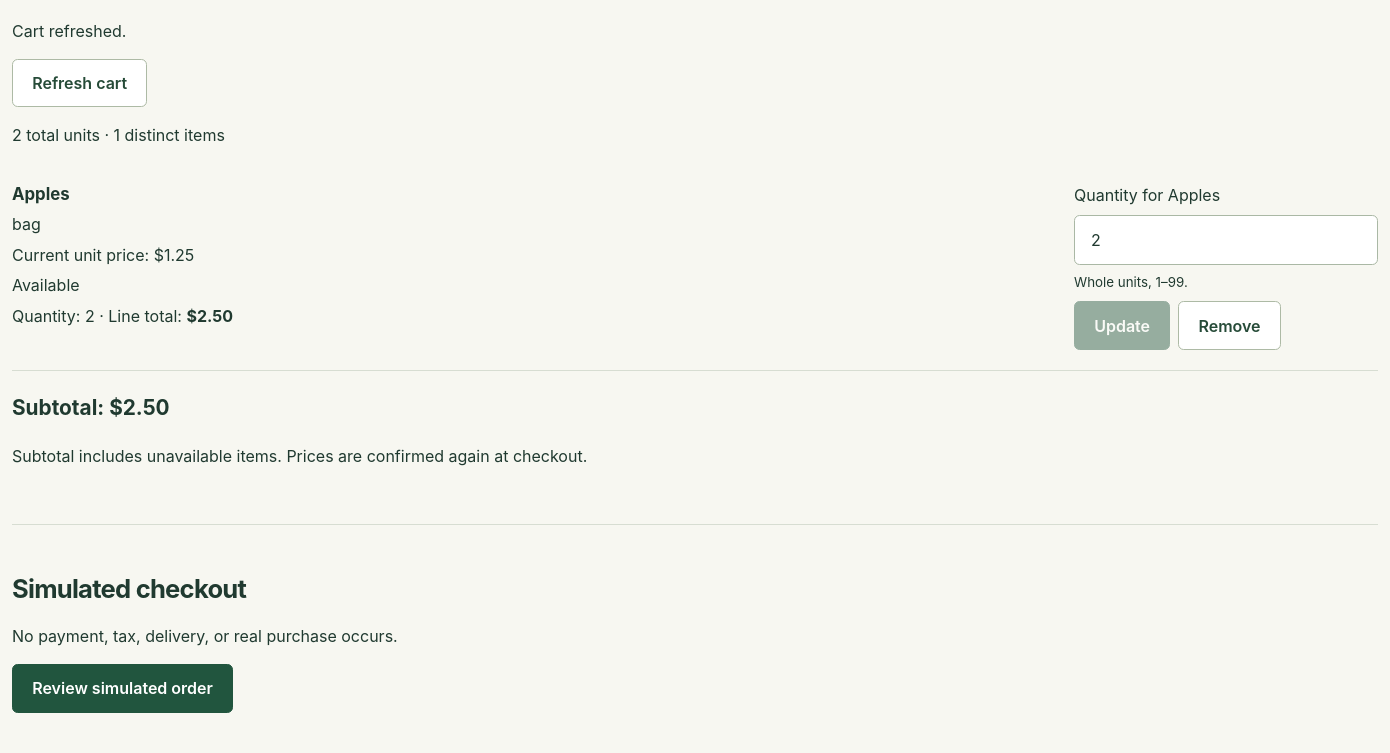
Test: simulated checkout › requires another explicit review after changed prices
The width and height of the screenshot is (1390, 753).
(page scrolled)
Click the button "Review simulated order".
click(123, 688)  # box [12,664,233,712]
(page scrolled)
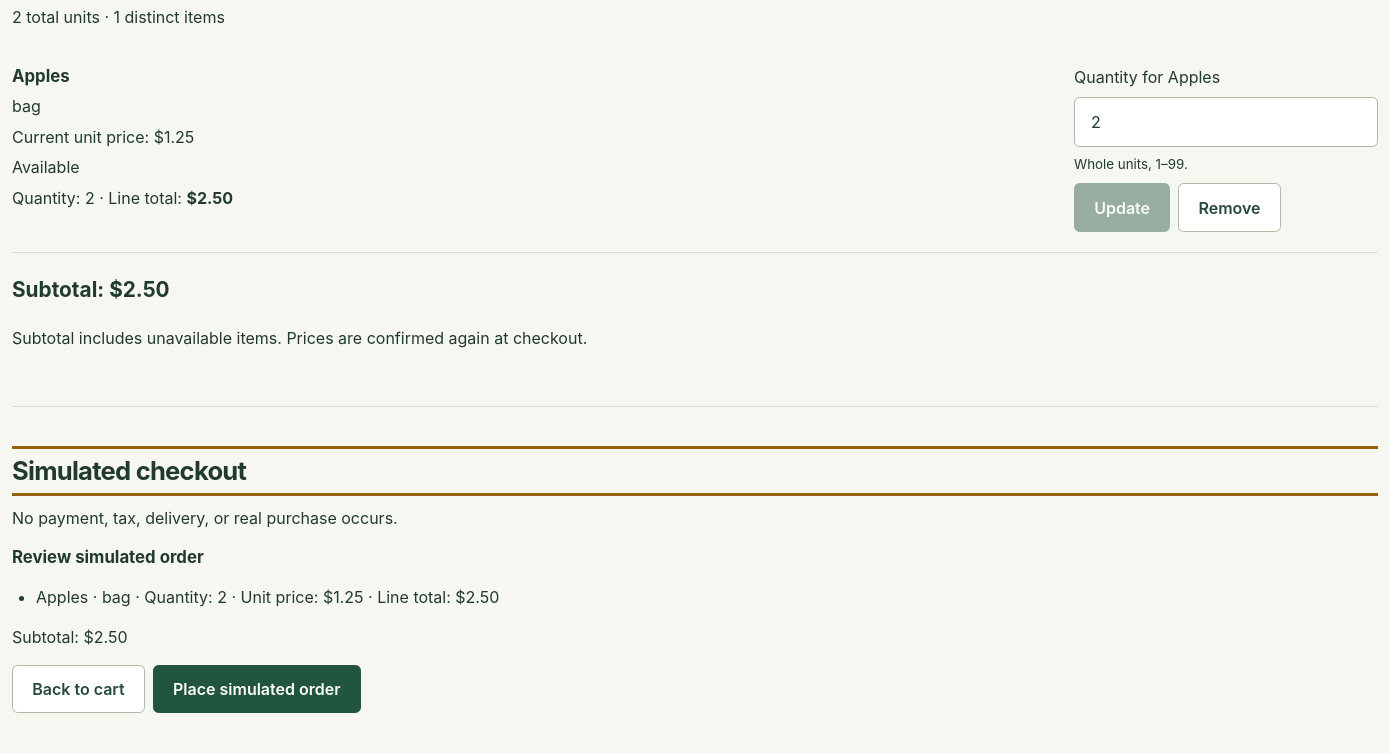
Expected: the button "Place simulated order" is shown
Click the button "Place simulated order".
click(257, 689)  # box [153,665,361,713]
(page scrolled)
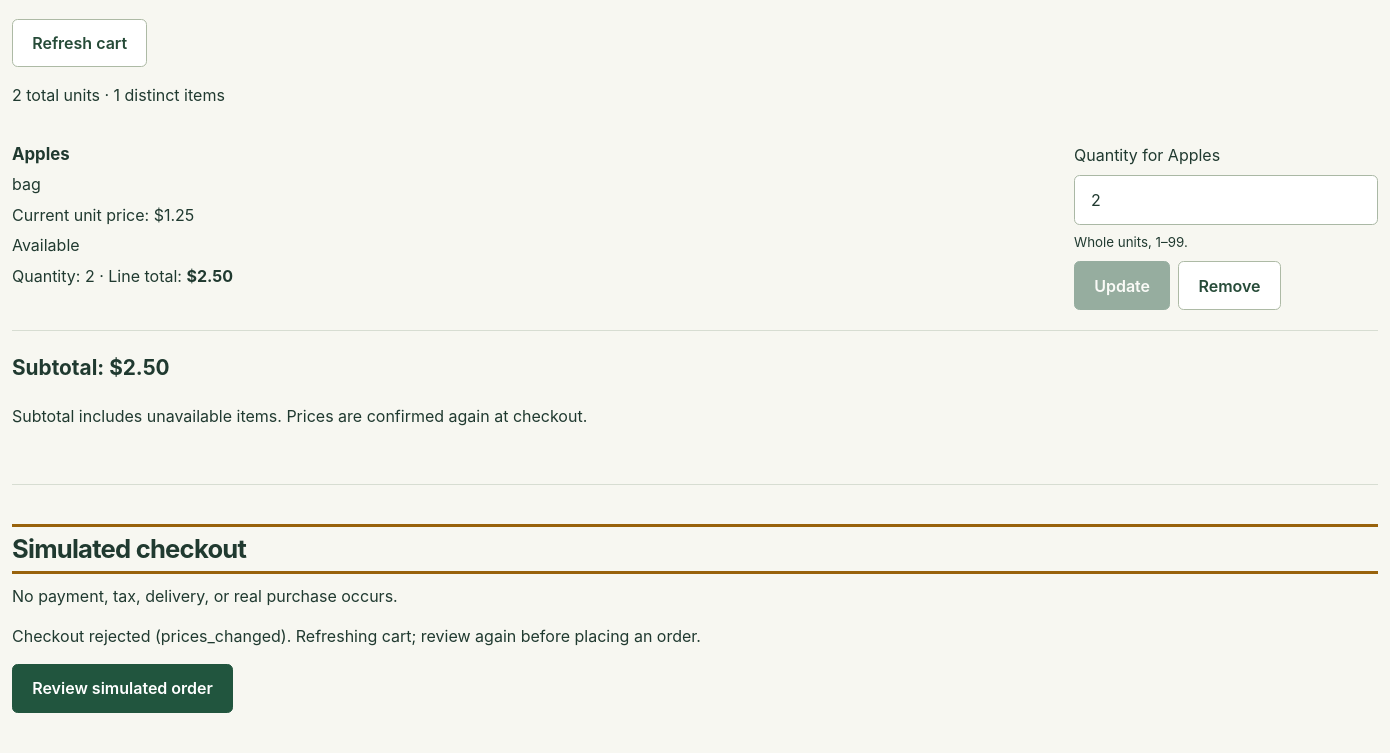
Expected: the text "Checkout rejected (prices_changed)" is shown, [12,626,701,646]
Expected: the button "Place simulated order" is gone
Click the button "Review simulated order".
click(123, 688)  # box [12,664,233,712]
(page scrolled)
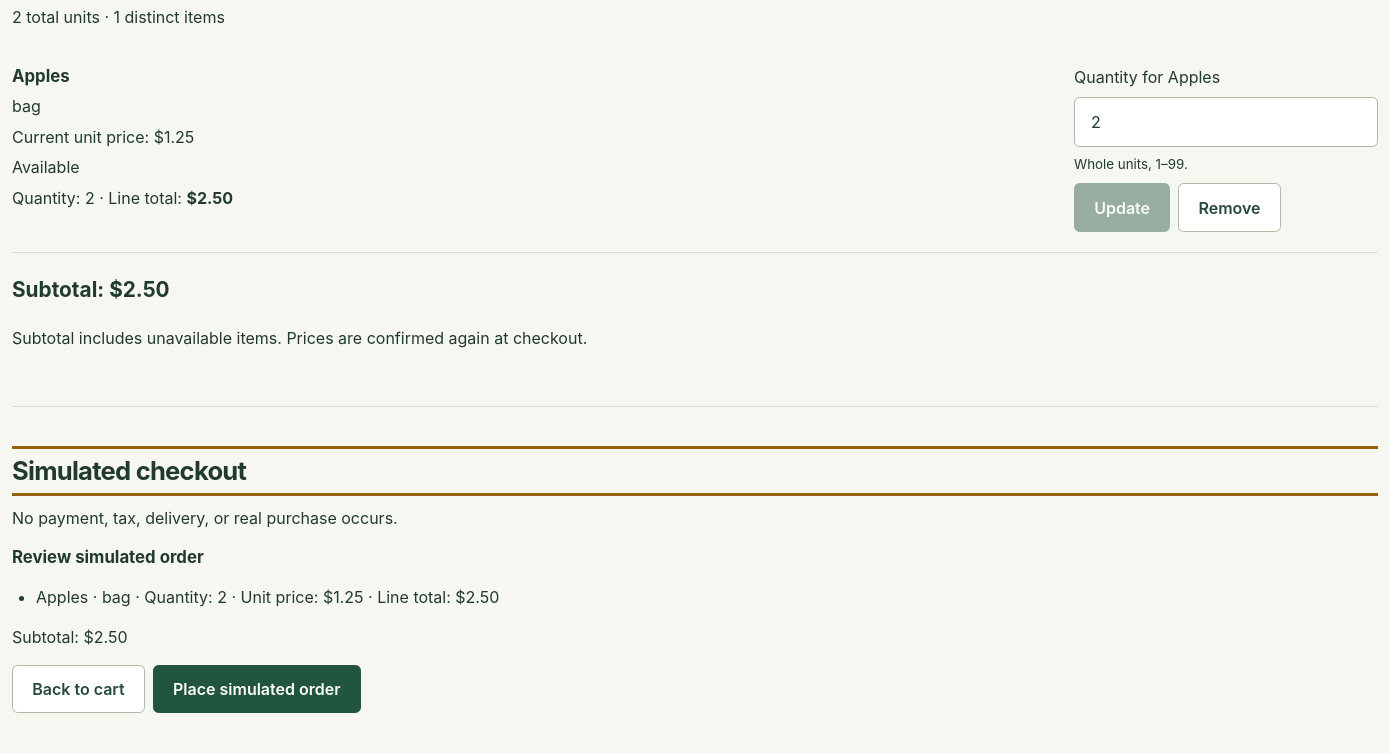
Expected: the button "Place simulated order" is shown, [153,665,361,713]
